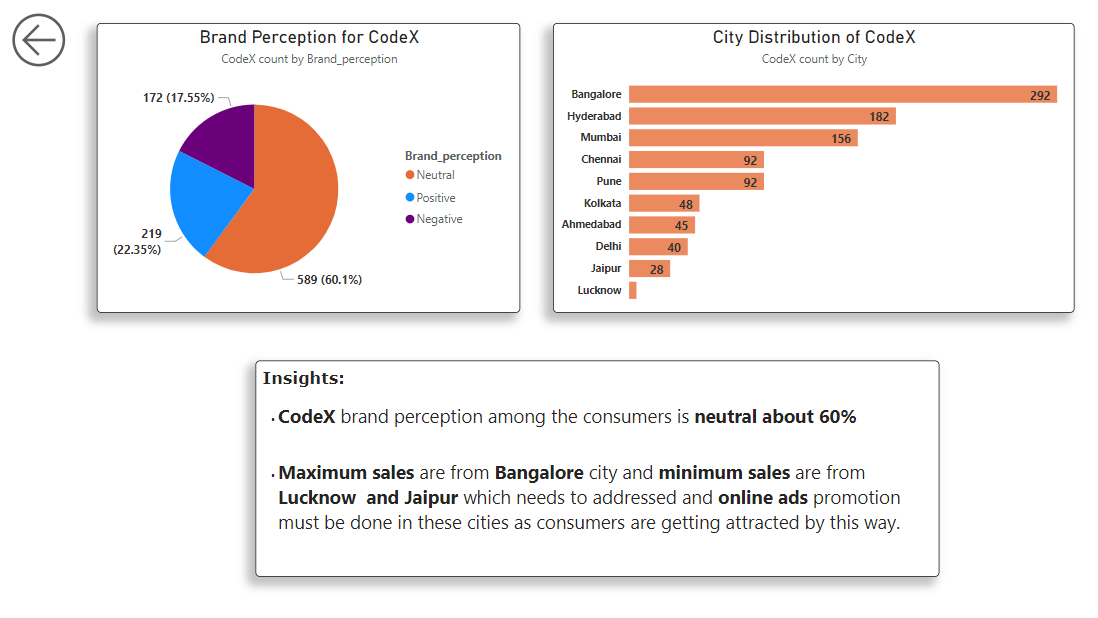

The page's visual inventory and layout, read from the dashboard file:
{"tool":"powerbi","page":{"name":"Brand Penetration","canvas":[1280,720],"ordinal":3},"visuals":[{"type":"pieChart","title":"Brand Perception for CodeX","fields":{"Y":["Measurestable.CodeX count"],"Category":["fact_survey_responses.Brand_perception"]},"box":[118.6,28.6,484.3,331.4],"z":0},{"type":"barChart","title":"City Distribution of CodeX","fields":{"Y":["Measurestable.CodeX count"],"Category":["dim_repondents.City"]},"box":[640,28.6,595.7,331.4],"z":1000},{"type":"textbox","box":[300,414.3,781.4,247.1],"z":2000},{"type":"actionButton","box":[14.3,10,104.3,75.7],"z":3000}]}

Visuals, with their boxes in screenshot pixels (x1, y1, x2, y2), scaled from the page's 1280x720 canvas onto the 1098x618 screenshot:
"Brand Perception for CodeX" pieChart: bbox=(102, 25, 517, 309)
"City Distribution of CodeX" barChart: bbox=(549, 25, 1060, 309)
textbox: bbox=(257, 356, 928, 568)
actionButton: bbox=(12, 9, 102, 74)
